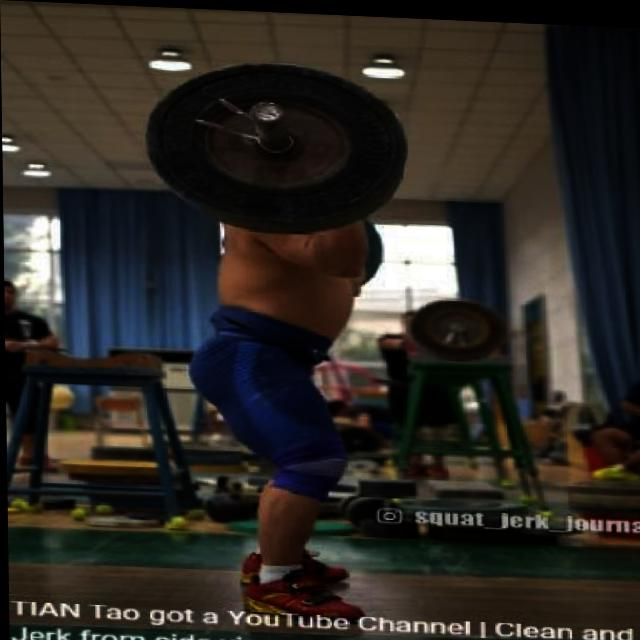barbell: (139, 48, 411, 239)
